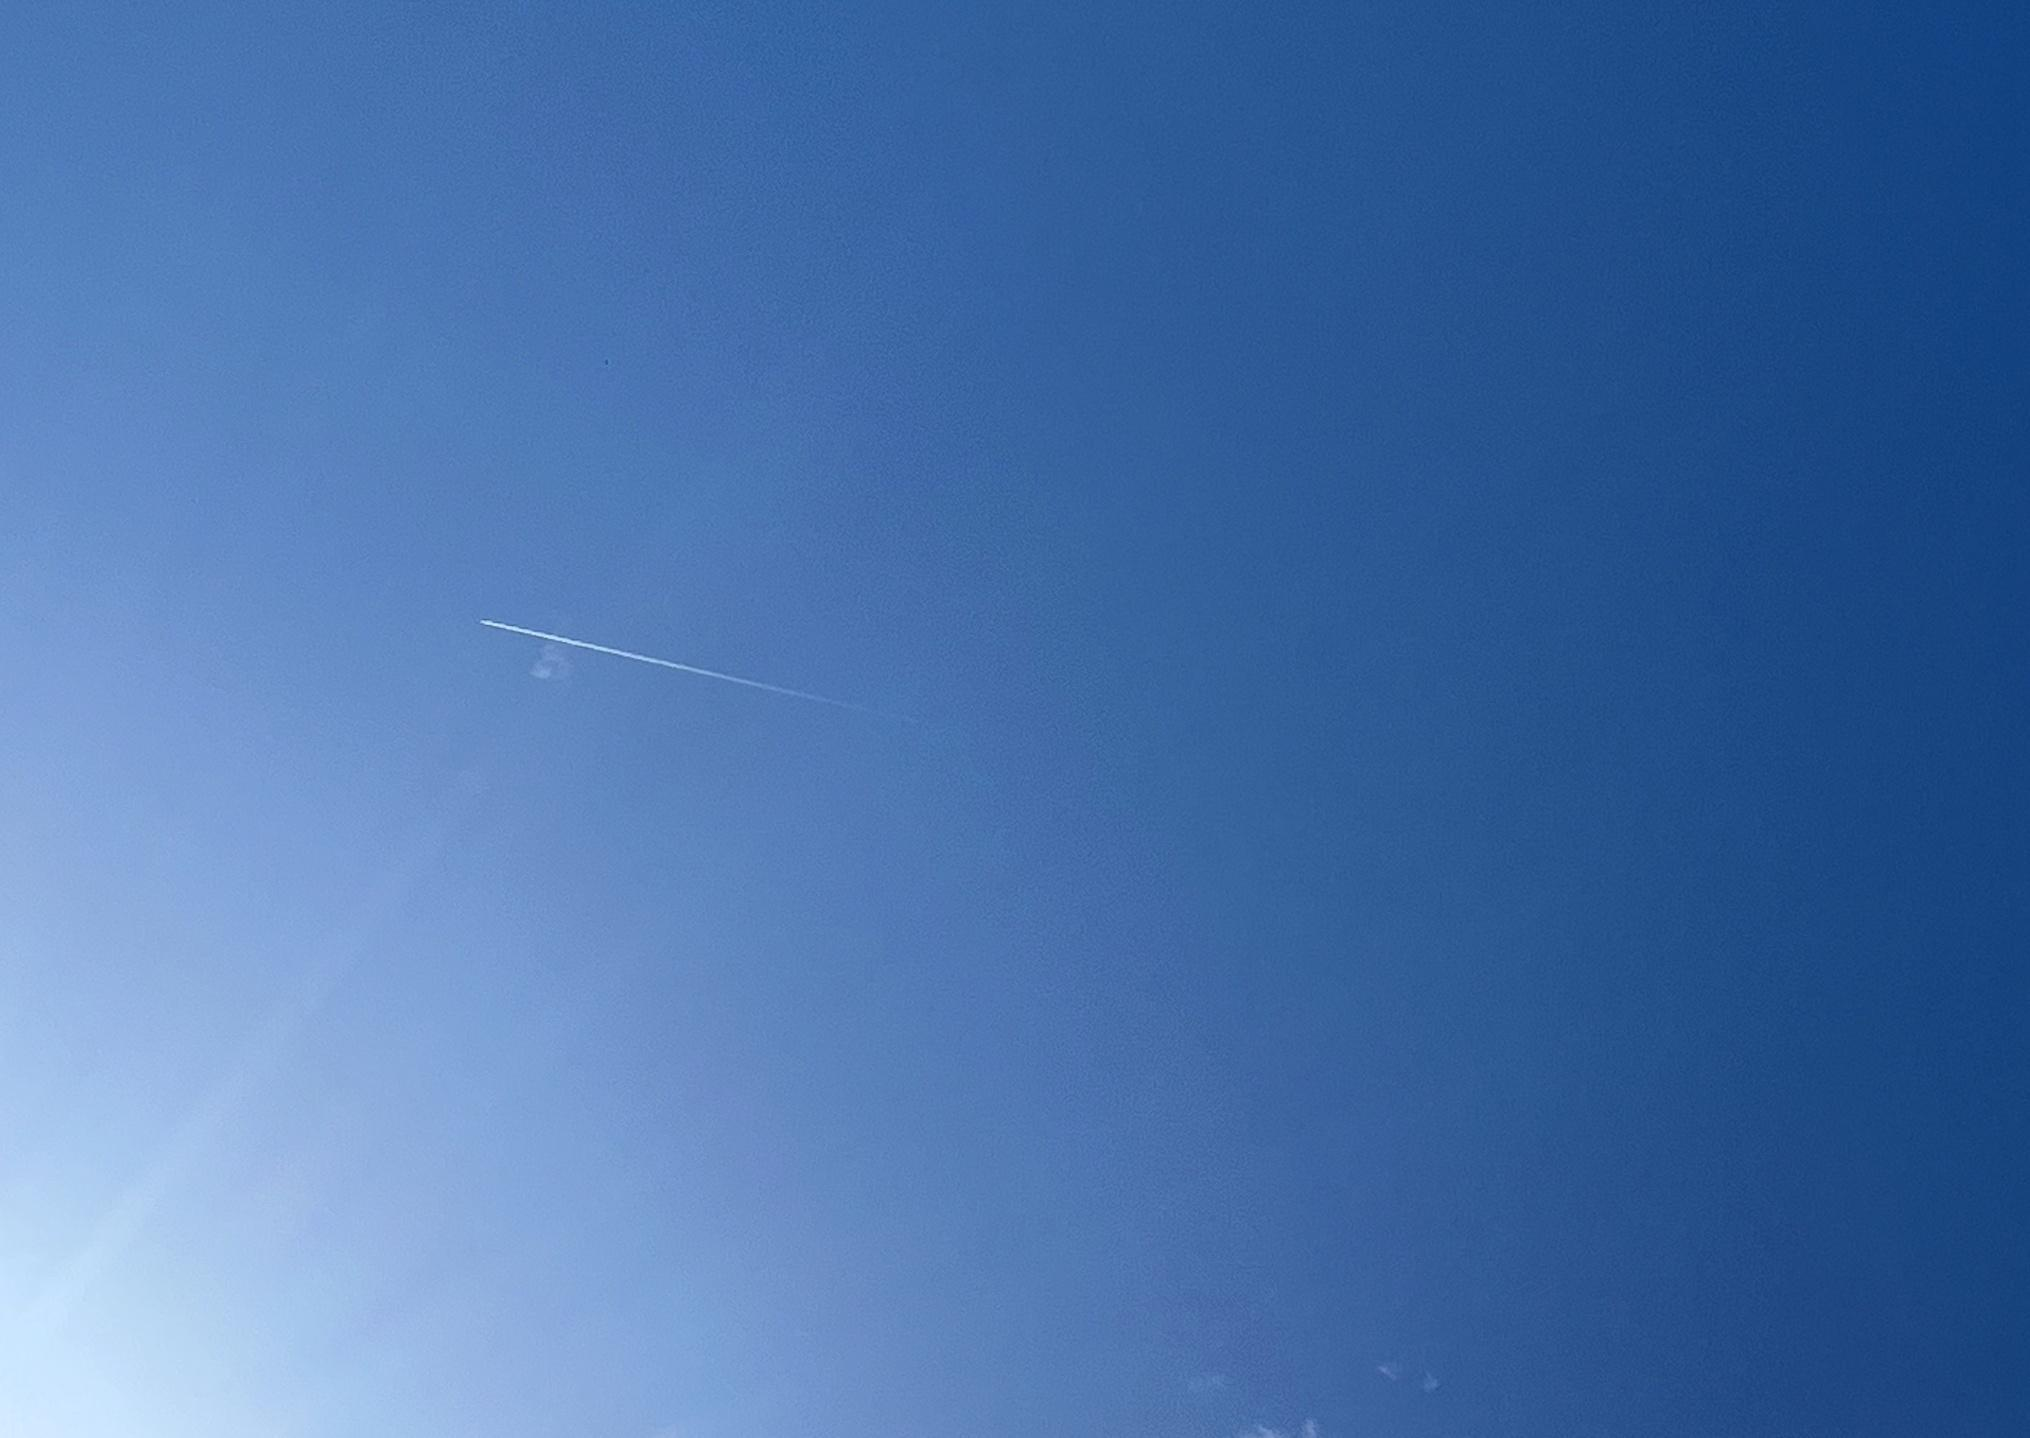Plane: (451, 604, 896, 724)
